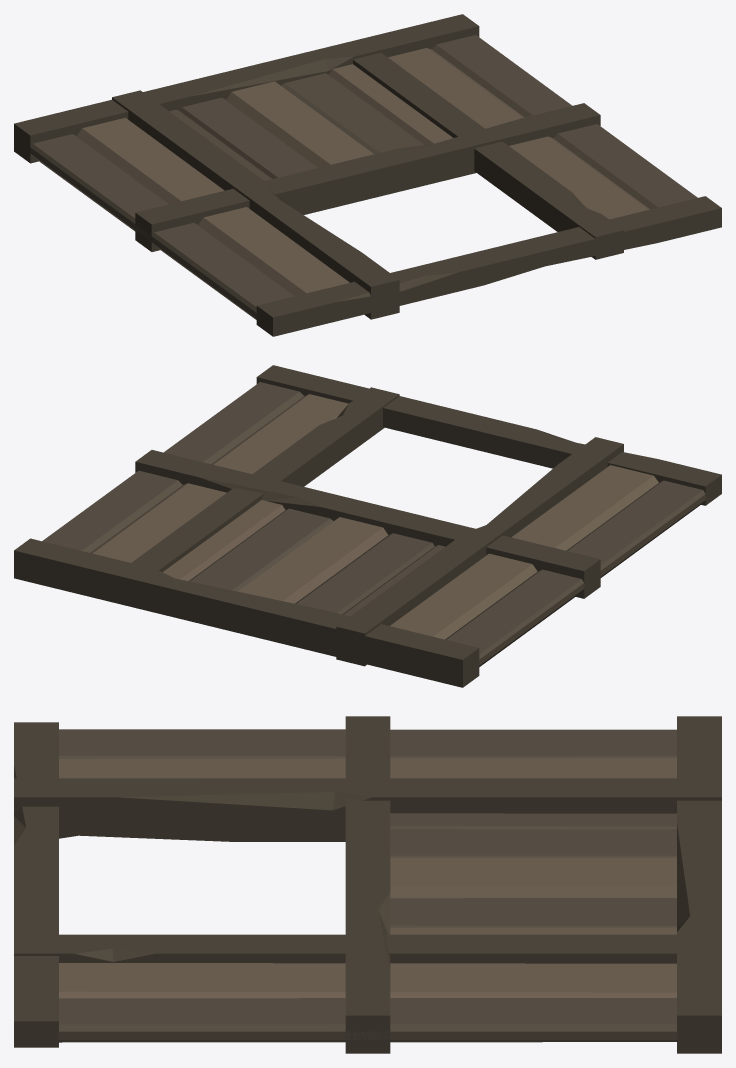
The model's file is kingdom_SM_Bld_House_Floor_Wood_06.gltf.
3 renders of one model, top to bottom at view 1: azimuth 30°, elevation 25°; view 2: azimuth 150°, elevation 25°; view 3: azimuth 270°, elevation 25°, orthographic. The views are drawn at different scales.
Parts seen in each view (by area): view 1: SM_Bld_House_Floor_Wood_06; view 2: SM_Bld_House_Floor_Wood_06; view 3: SM_Bld_House_Floor_Wood_06.
Boxes of the visible parts, x1,y1,x2,y2 form: SM_Bld_House_Floor_Wood_06: (14,14,721,336); SM_Bld_House_Floor_Wood_06: (14,365,721,687); SM_Bld_House_Floor_Wood_06: (14,716,721,1053).
Bounding box in the file's own units: 2.5 × 0.1744 × 2.5.
1 material, 1 textured.
